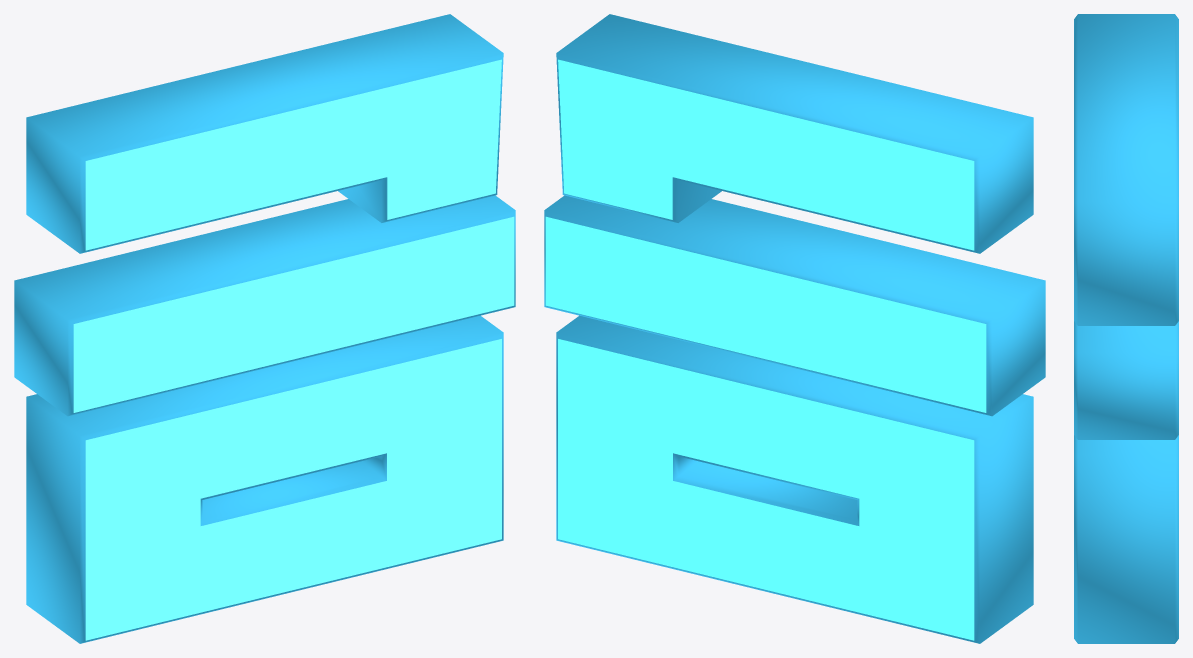
The picture shows the model from 3 angles, left to right: view 1: azimuth 30°, elevation 25°; view 2: azimuth 150°, elevation 25°; view 3: azimuth 270°, elevation 25°; orthographic projection. The views are drawn at different scales.
Parts seen in each view (by area): view 1: glyph; view 2: glyph; view 3: glyph.
Part boxes in pixels (x1,y1,x2,y2): glyph: (14, 14, 515, 643); glyph: (544, 14, 1045, 643); glyph: (1074, 14, 1178, 643).
Bounding box in the file's own units: 0.0726 × 0.0755 × 0.0162.
